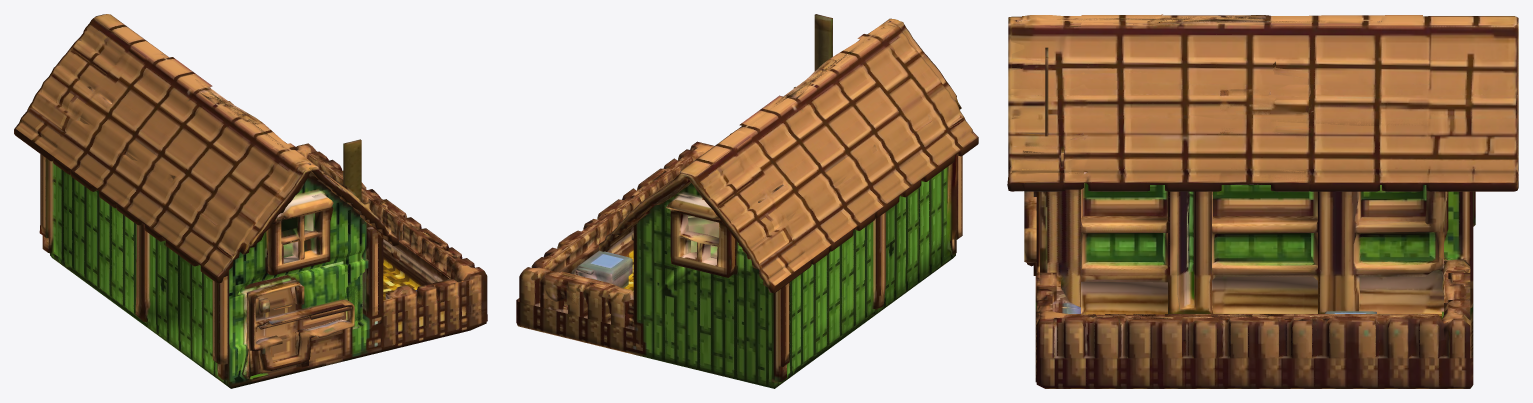
The model's file is coop.glb.
3 renders of one model, left to right at view 1: azimuth 30°, elevation 25°; view 2: azimuth 150°, elevation 25°; view 3: azimuth 270°, elevation 25°, orthographic. The views are drawn at different scales.
Bounding box in the file's own units: 1.45 × 1.06 × 1.91.
1 material, 1 textured.
